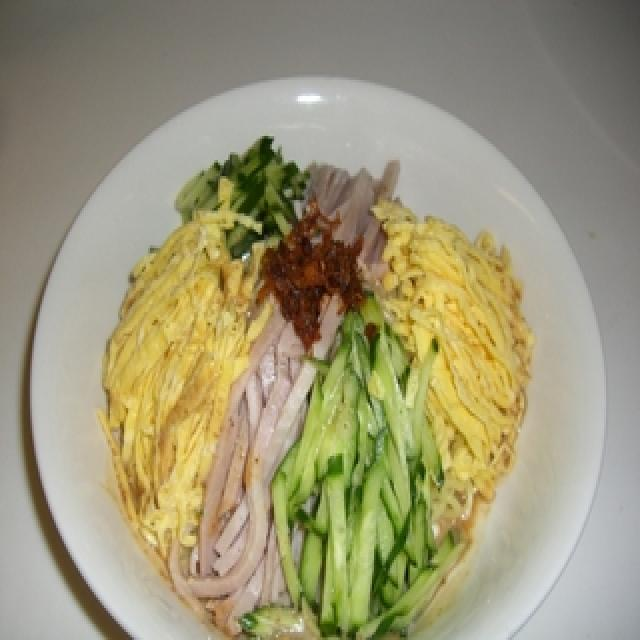面条主食: (16, 53, 616, 640)
